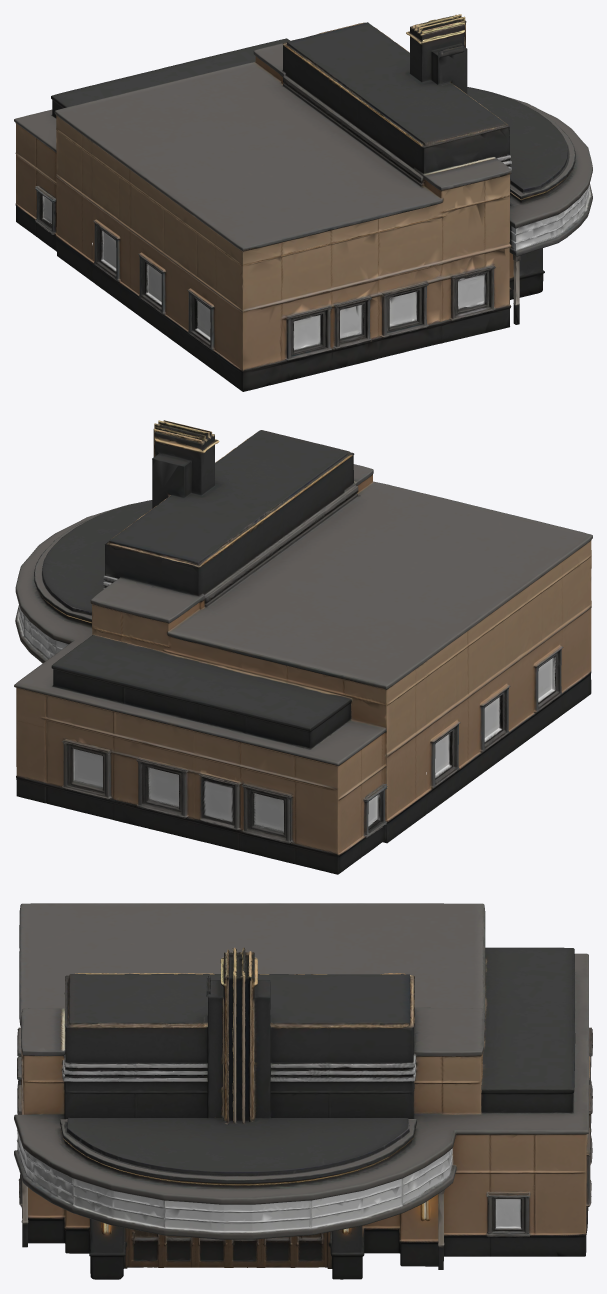
File: cinema.glb
3 views of the same model, one above another, from view 1: azimuth 30°, elevation 25°; view 2: azimuth 150°, elevation 25°; view 3: azimuth 270°, elevation 25° (orthographic). The views are drawn at different scales.
Parts seen in each view (by area): view 1: tripo_node_8db9cc81-a424-41ee-9432-07786de86a19; view 2: tripo_node_8db9cc81-a424-41ee-9432-07786de86a19; view 3: tripo_node_8db9cc81-a424-41ee-9432-07786de86a19.
Boxes of the visible parts, box(x1,y1,x2,y2) form: tripo_node_8db9cc81-a424-41ee-9432-07786de86a19: box(14, 14, 592, 391); tripo_node_8db9cc81-a424-41ee-9432-07786de86a19: box(14, 420, 592, 874); tripo_node_8db9cc81-a424-41ee-9432-07786de86a19: box(14, 903, 592, 1279).
Size of the model in its own units: 21.8 by 12 by 21.49.
Materials: 1 (1 with a texture image).
